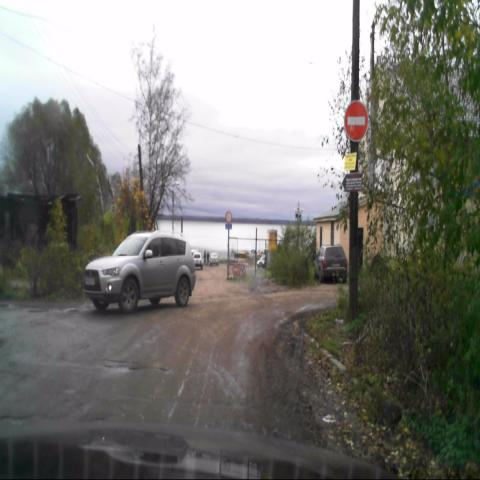3_1: (344, 98, 368, 143)
